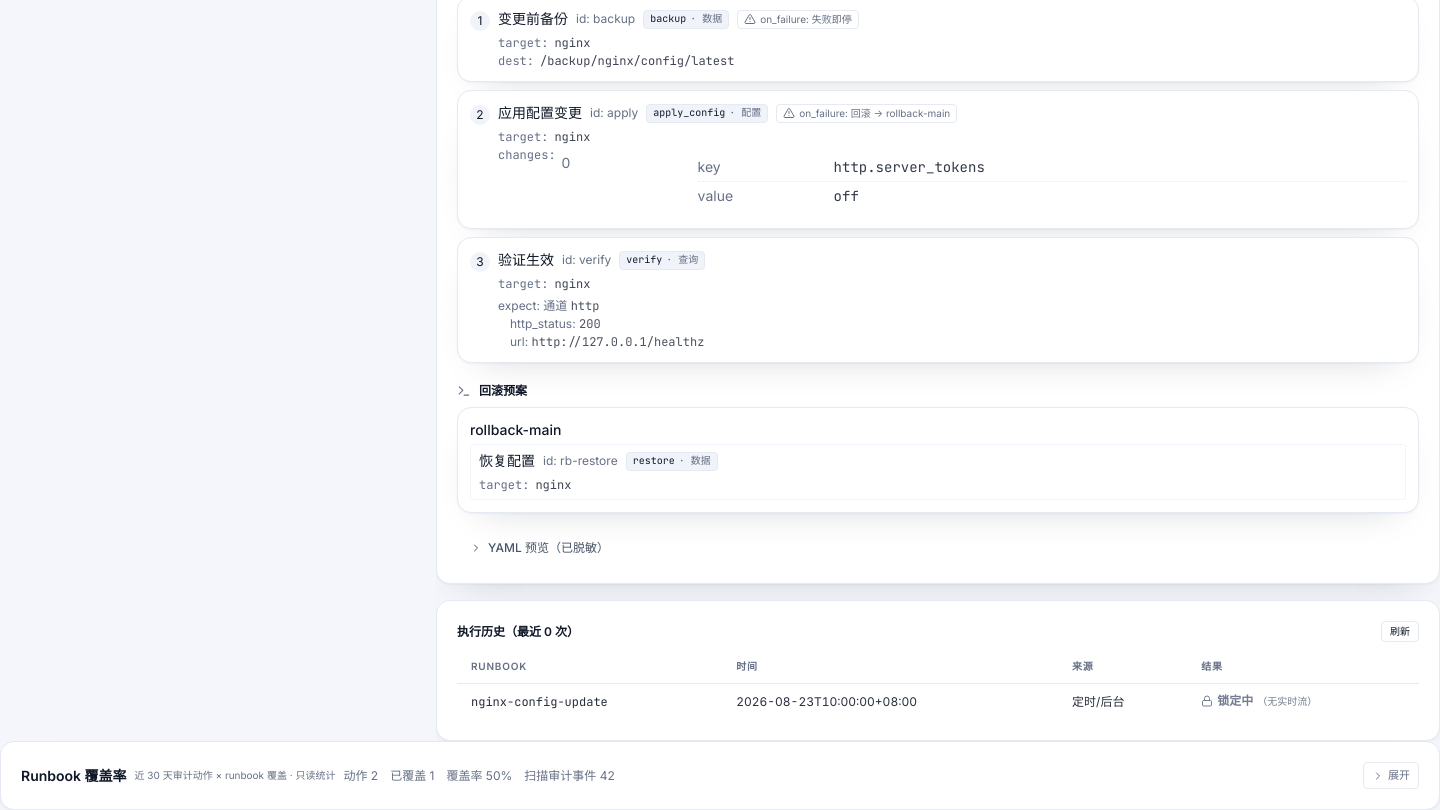
Test: 批次八十一 RunbooksPage 锁定 + 覆盖率 › 覆盖率区块渲染动作频率 + 覆盖状态 + 缺口
(page scrolled)
Click the button with test id "coverage-toggle" at {"x": 1391, "y": 776}, box [1363,762,1419,789]
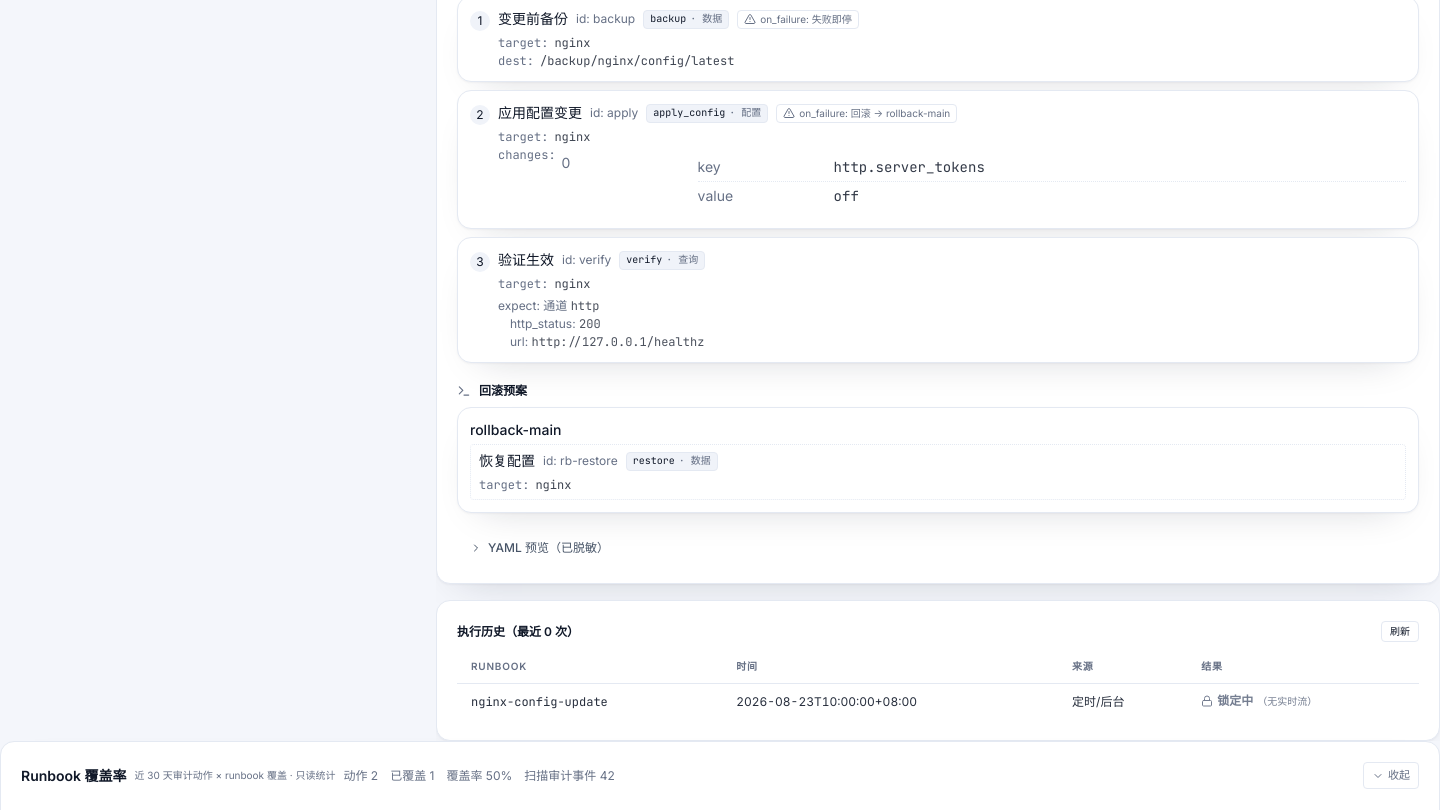
Expected: the text "已覆盖" is shown, [390,768,434,783]
Now the button with test id "coverage-toggle" is expanded, box [1363,762,1419,789]
